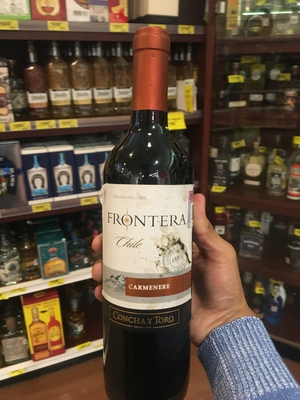frontera carmenere: (98, 31, 202, 389)
